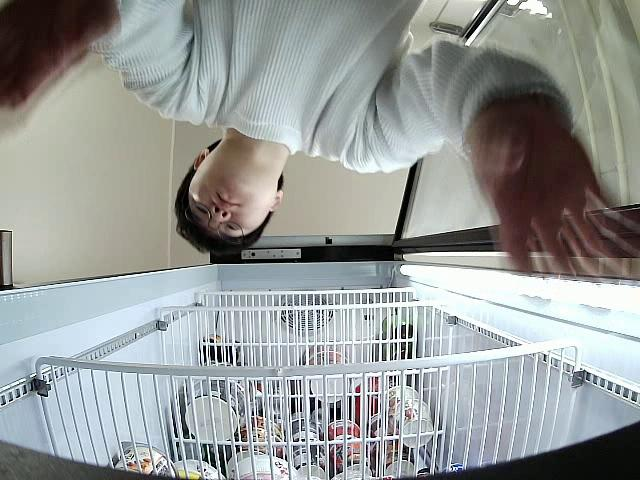00_hand: (461, 94, 640, 279)
